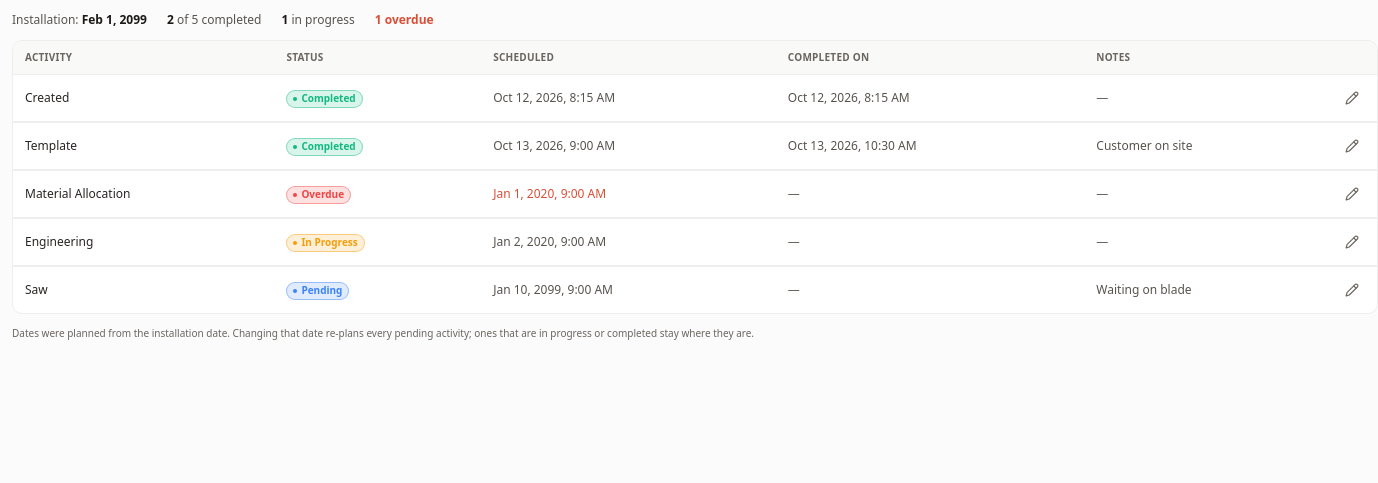
Test: SalesOrderSchedulingTab › cancels an edit without saving
The image size is (1378, 483).
Check: the table is shown, box [13, 41, 1377, 313]
Click the button named "Edit Saw" at (1352, 290), box [1339, 277, 1365, 303]
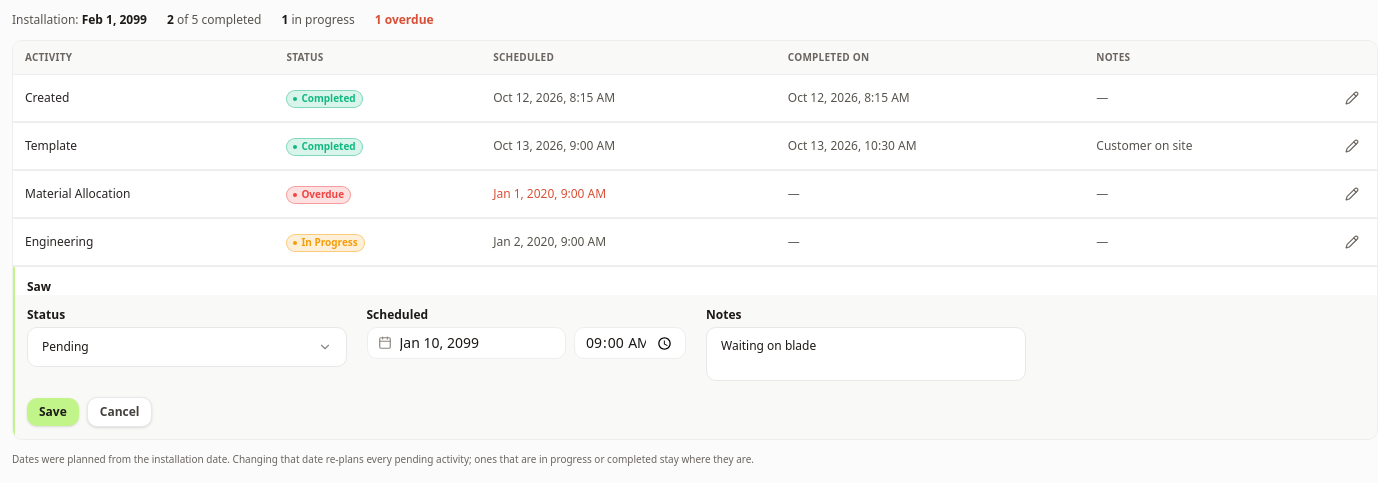
Click the button with aria-label "Cancel editing for Saw" at (120, 412), box [87, 397, 152, 427]
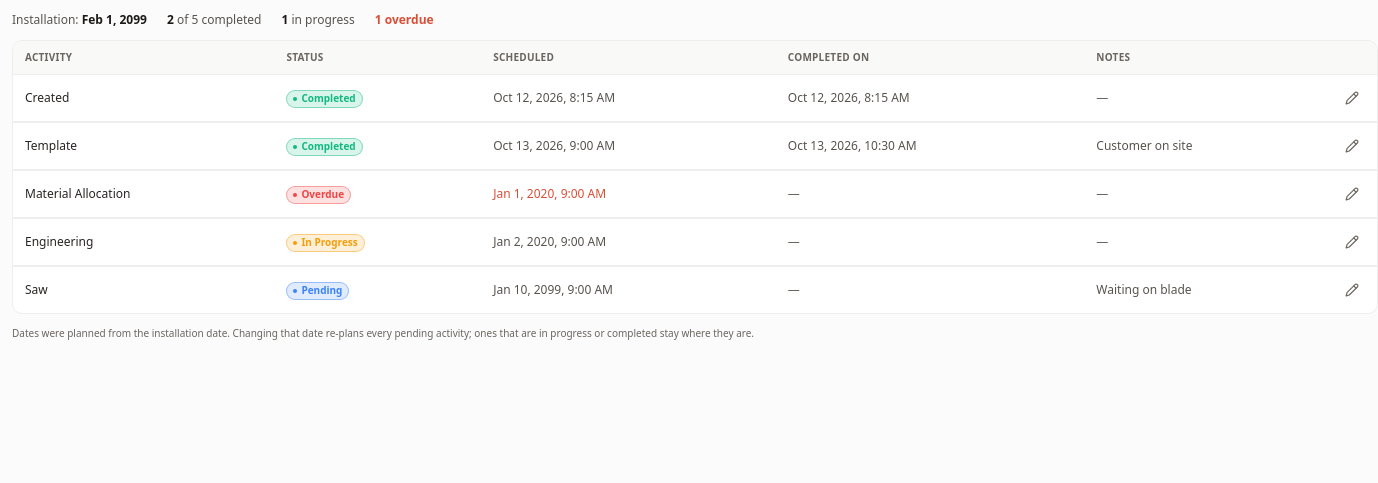
Check: the button named "Edit Saw" is shown, box [1339, 277, 1365, 303]
